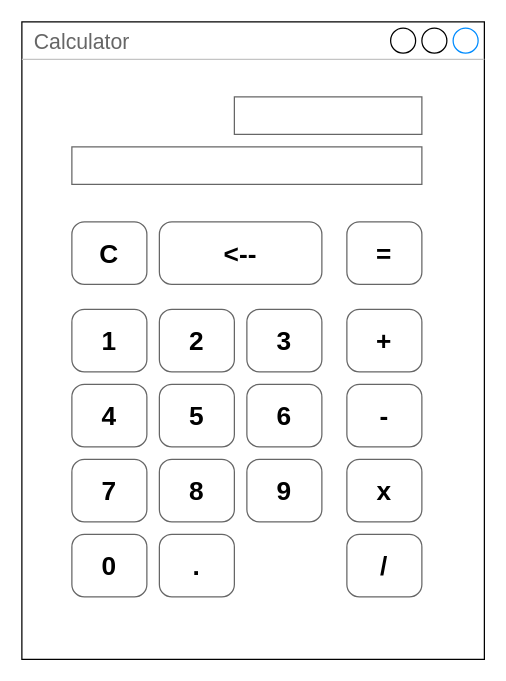
The diagram is 506 pixels wide and 681 high, and some of its shapes have lost their labels. Each missing label, with the centre of its shape:
Feld für Zahlen zu eingeben: the point at 246,165
Zahlenfeld: the point at 327,115
